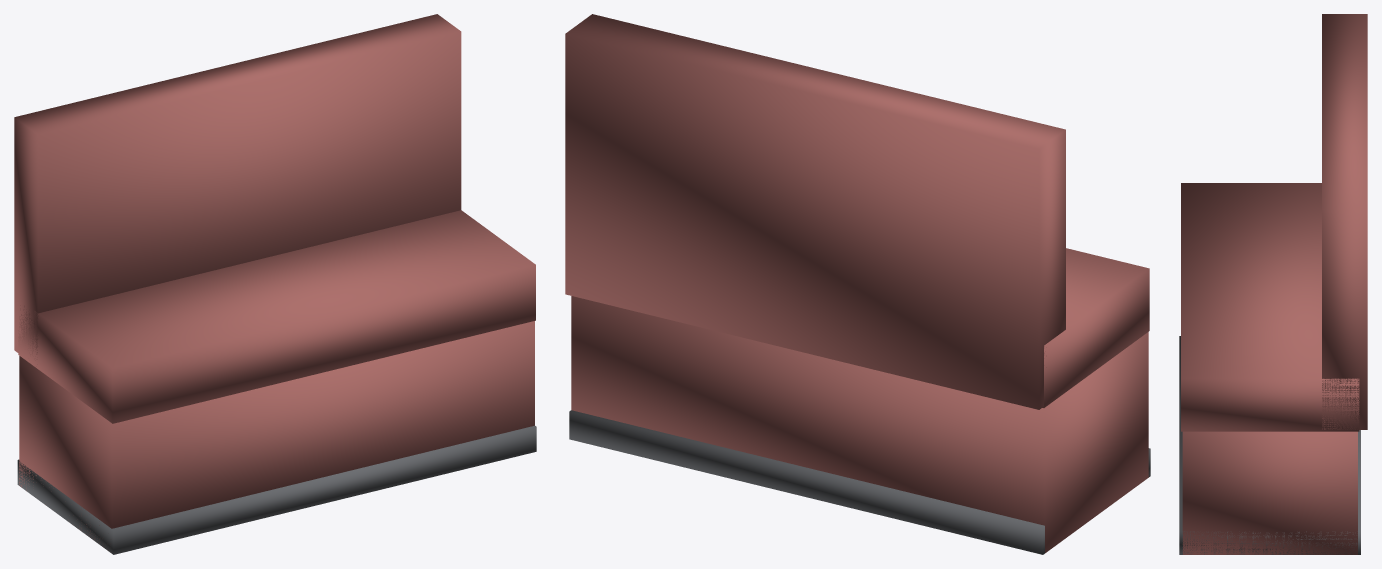
The model's file is diner_booth_single__wide.glb.
The picture shows the model from 3 angles, left to right: view 1: azimuth 30°, elevation 25°; view 2: azimuth 150°, elevation 25°; view 3: azimuth 270°, elevation 25°; orthographic projection. The views are drawn at different scales.
Parts seen in each view (by area): view 1: world; view 2: world; view 3: world.
Part boxes in pixels (x1=…): world: x1=14, y1=14, x2=536, y2=554; world: x1=565, y1=14, x2=1150, y2=554; world: x1=1179, y1=14, x2=1367, y2=554.
Size of the model in its own units: 1.43 by 1.17 by 0.58.
